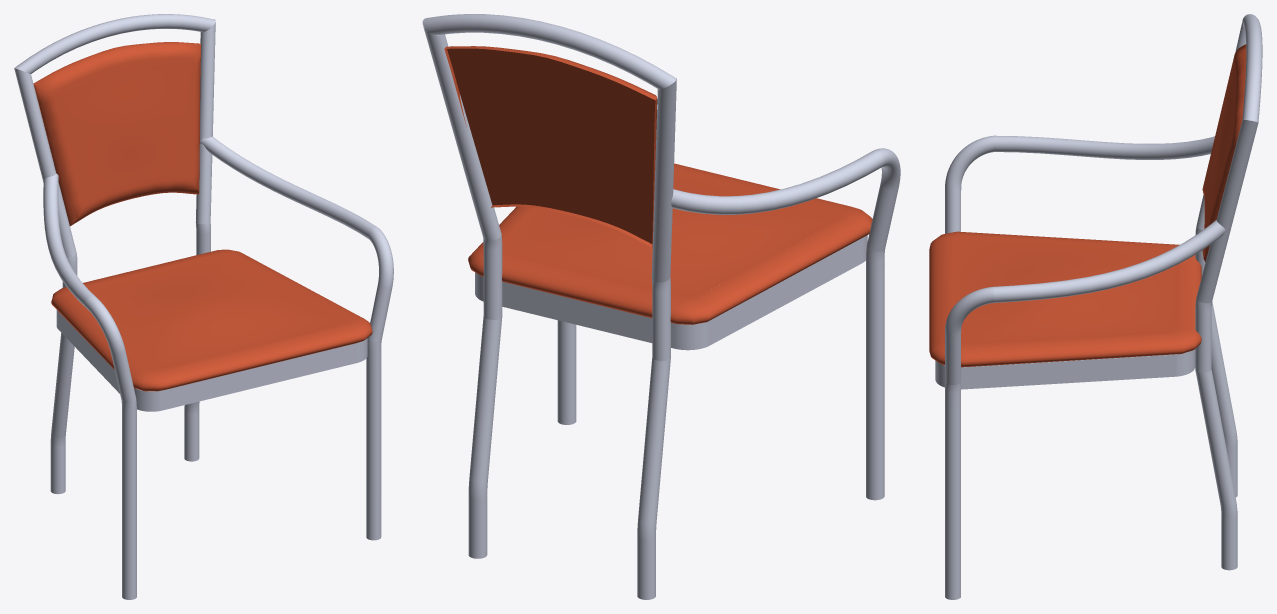
The model's file is Chair 2.fbx.
The picture shows the model from 3 angles, left to right: view 1: azimuth 30°, elevation 25°; view 2: azimuth 150°, elevation 25°; view 3: azimuth 270°, elevation 25°; orthographic projection. The views are drawn at different scales.
Visible parts, largest first — view 1: Group, Generic_Solid_3, Generic_Solid_2, Generic_Solid, Generic_Solid_4, Generic_Solid_6, Generic_Solid_5; view 2: Group, Generic_Solid_2, Generic_Solid_6, Generic_Solid_4, Generic_Solid, Generic_Solid_5, Generic_Solid_3; view 3: Group, Generic_Solid_3, Generic_Solid_6, Generic_Solid, Generic_Solid_2, Generic_Solid_4, Generic_Solid_5.
Boxes of the visible parts, x1,y1,x2,y2 form: Group: (33,42,372,391); Generic_Solid_3: (200,136,393,540); Generic_Solid_2: (43,173,136,599); Generic_Solid: (56,305,367,411); Generic_Solid_4: (14,68,77,494); Generic_Solid_6: (184,19,215,461); Generic_Solid_5: (15,14,215,73); Group: (444,46,872,324); Generic_Solid_2: (671,148,900,500); Generic_Solid_6: (422,17,502,558); Generic_Solid_4: (637,79,676,599); Generic_Solid: (475,235,867,350); Generic_Solid_5: (422,14,676,89); Generic_Solid_3: (557,320,576,424); Group: (929,44,1246,367); Generic_Solid_3: (945,220,1225,599); Generic_Solid_6: (1195,120,1258,570); Generic_Solid: (935,349,1195,389); Generic_Solid_2: (945,135,1214,233); Generic_Solid_4: (1195,14,1255,497); Generic_Solid_5: (1242,14,1262,122).
Bounding box in the file's own units: 584 × 841 × 521.
